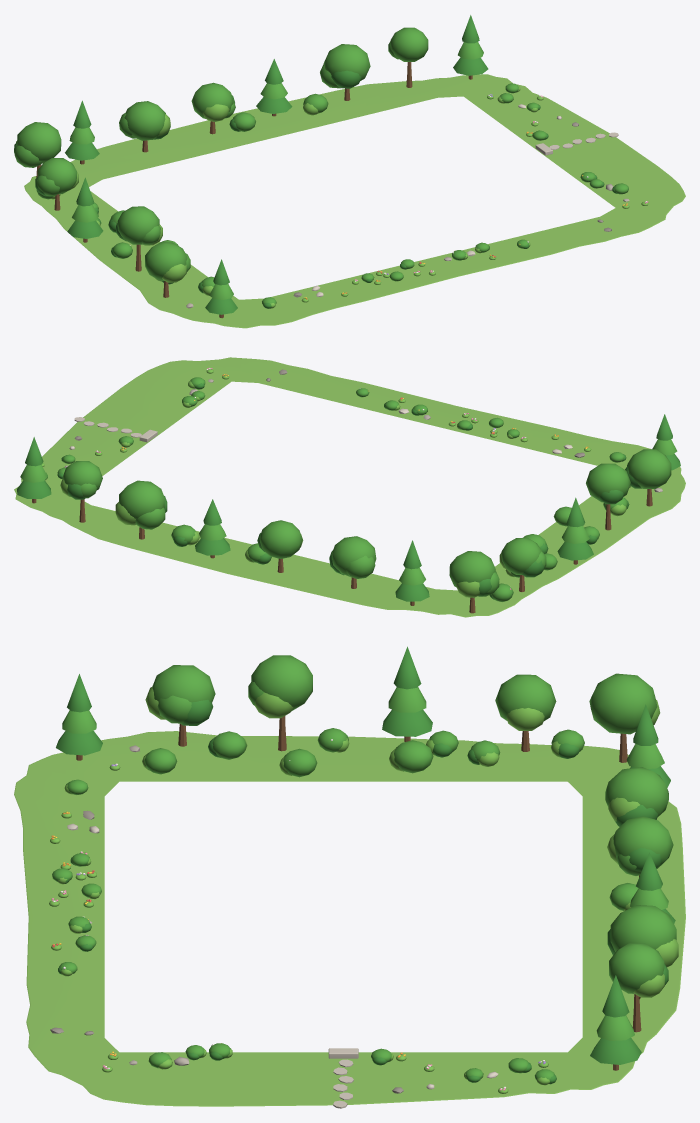
The model's file is einrichtung_garten.glb.
The picture shows the model from 3 angles, top to bottom: view 1: azimuth 30°, elevation 25°; view 2: azimuth 150°, elevation 25°; view 3: azimuth 270°, elevation 25°; orthographic projection. The views are drawn at different scales.
Parts seen in each view (by area): view 1: einrichtung_garten; view 2: einrichtung_garten; view 3: einrichtung_garten.
Boxes of the visible parts, x1,y1,x2,y2 form: einrichtung_garten: (14, 15, 685, 328); einrichtung_garten: (14, 357, 685, 617); einrichtung_garten: (14, 646, 685, 1108).
Bounding box in the file's own units: 33.08 × 4.01 × 24.87.
